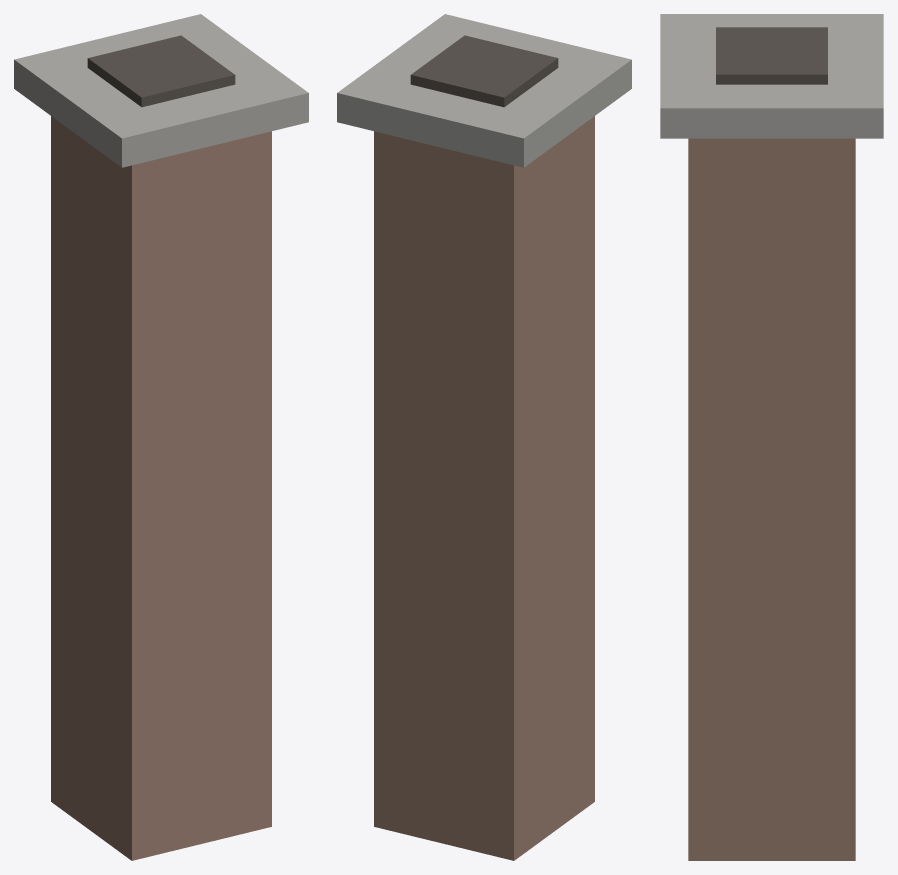
The picture shows the model from 3 angles, left to right: view 1: azimuth 30°, elevation 25°; view 2: azimuth 150°, elevation 25°; view 3: azimuth 270°, elevation 25°; orthographic projection. The views are drawn at different scales.
Parts seen in each view (by area): view 1: worldgen; view 2: worldgen; view 3: worldgen.
Part boxes in pixels (<box>): worldgen: <box>14,14,308,860</box>; worldgen: <box>337,14,631,860</box>; worldgen: <box>660,14,883,860</box>.
Bounding box in the file's own units: 0.8 × 3.06 × 0.8.
